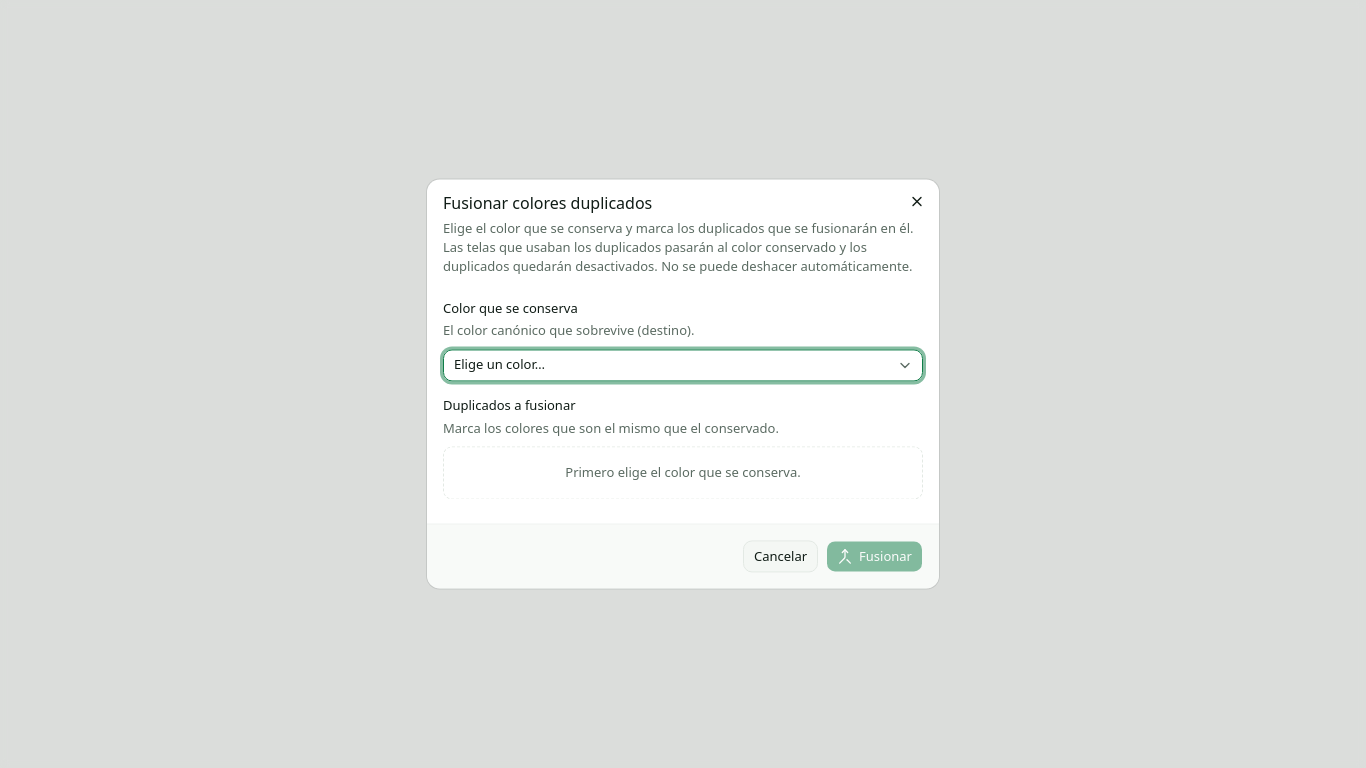
Test: <DialogoFusionColores> › al cambiar el destino lo quita de los duplicados marcados
Select "Negro" in the dropdown with test id "fusion-destino" at [683, 365], box 443,349 -> 923,381
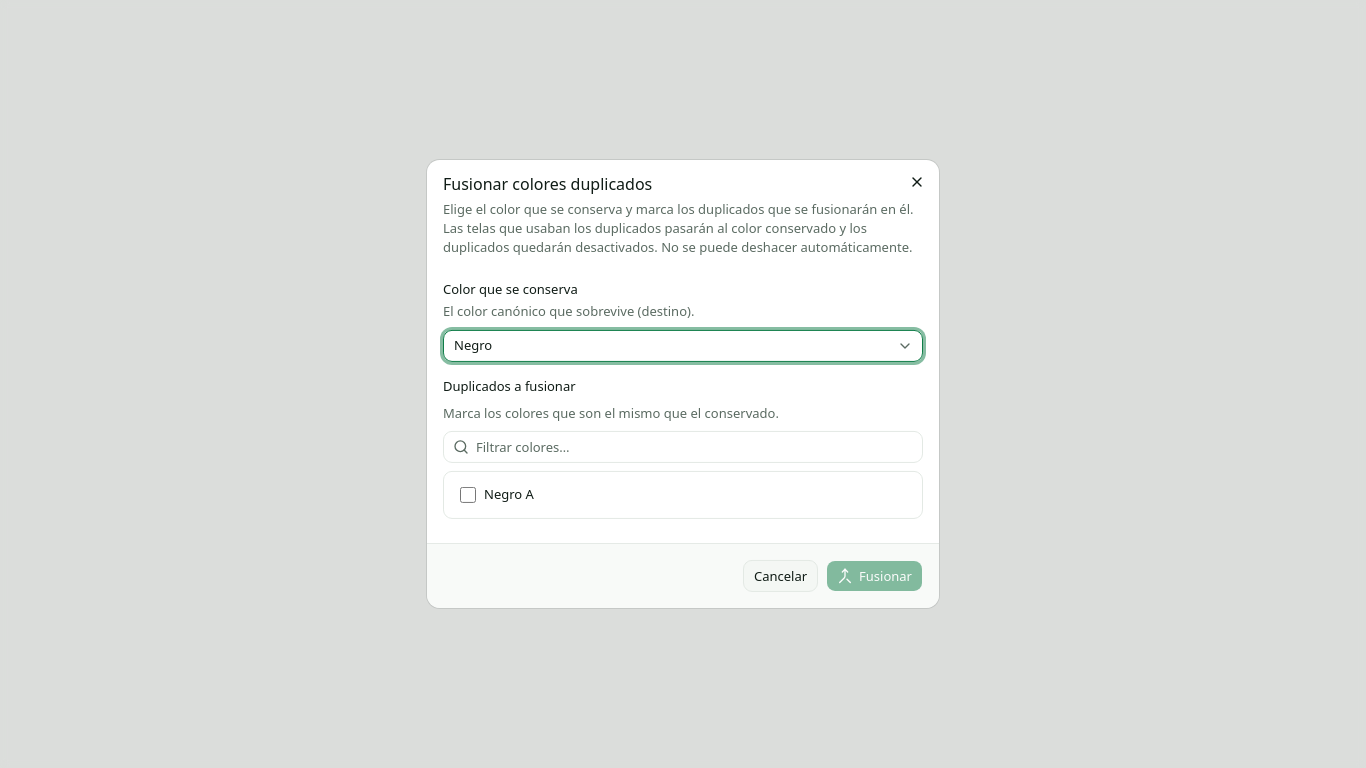
Click the checkbox with test id "fusion-origen-opcion-2" at [468, 495], box 460,487 -> 476,503
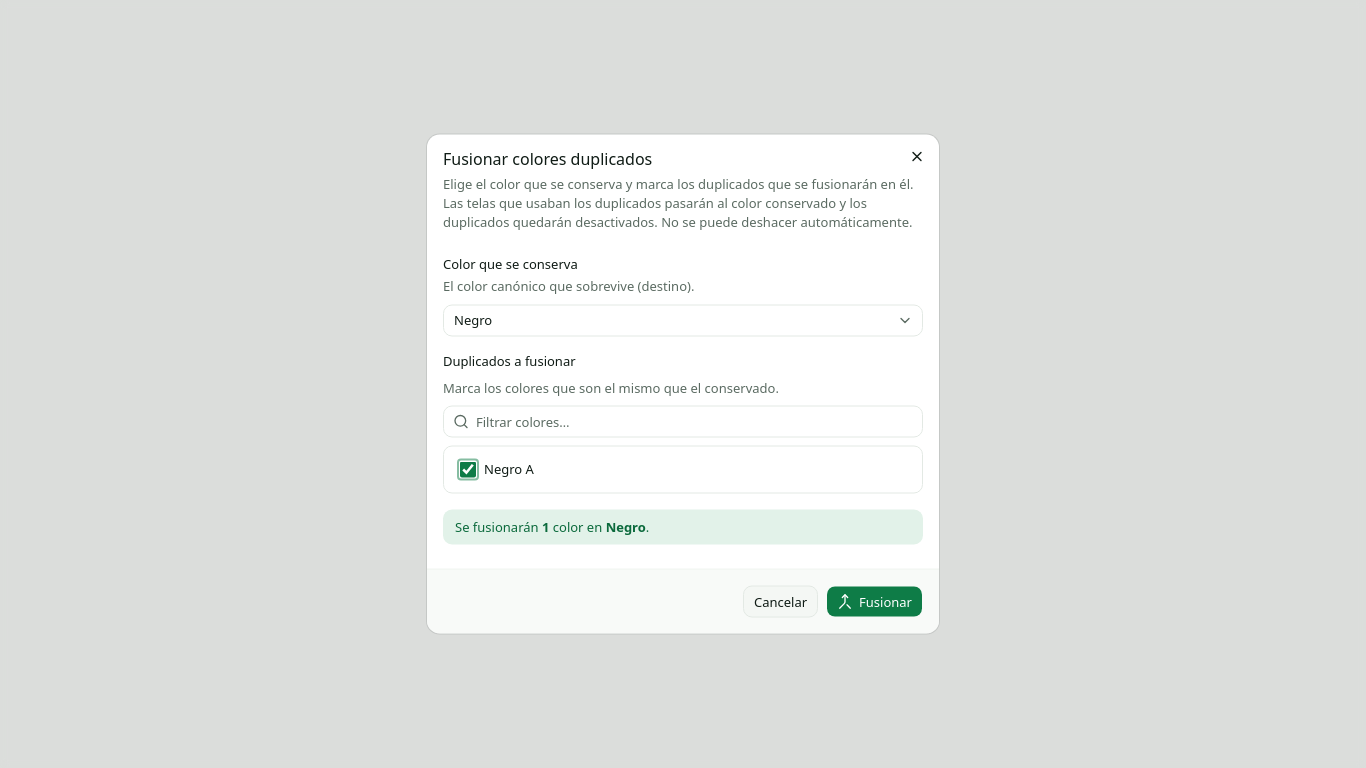
Expected: the button with test id "confirmar-fusion" is enabled, 826,586 -> 923,618
Select "Negro A" in the dropdown with test id "fusion-destino" at [683, 320], box 443,304 -> 923,336
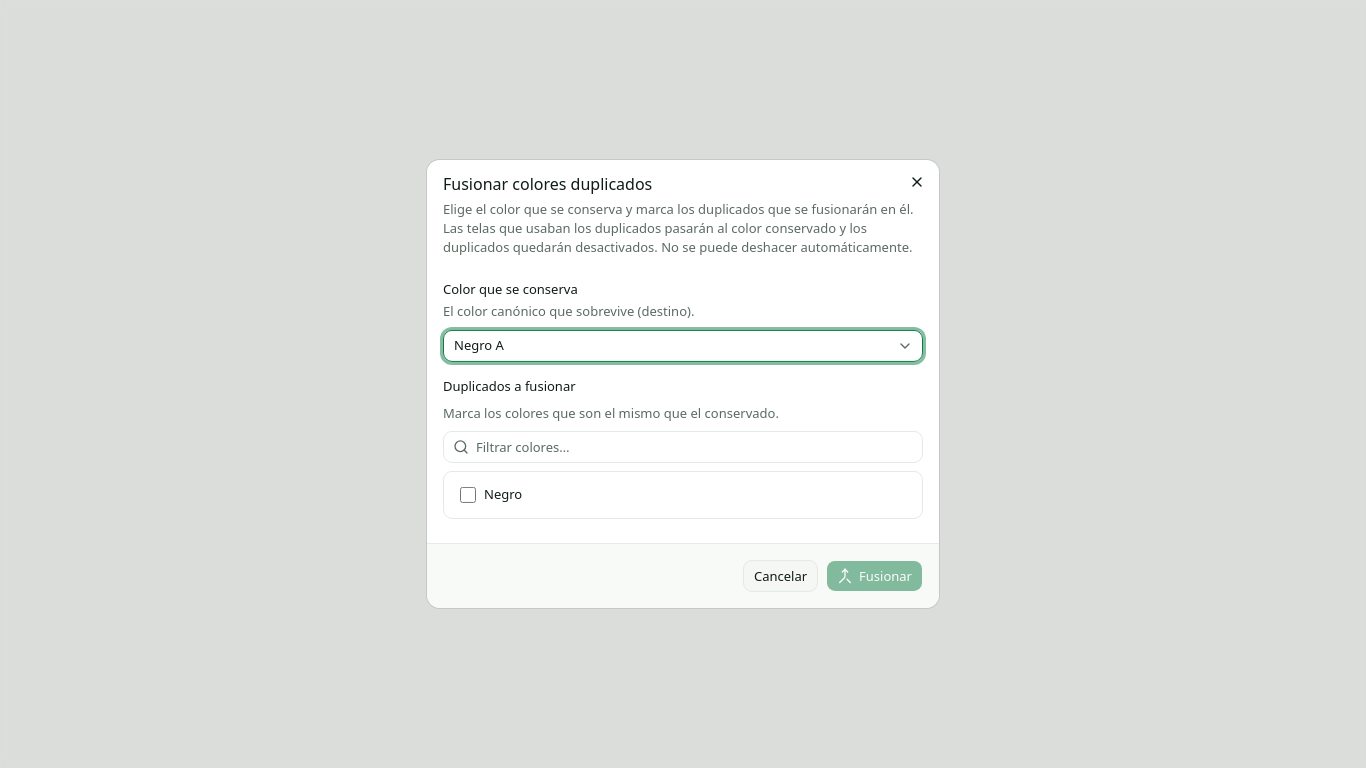
Expected: the checkbox with test id "fusion-origen-opcion-2" is gone
Expected: the checkbox with test id "fusion-origen-opcion-1" is not checked, 460,487 -> 476,503
Expected: the button with test id "confirmar-fusion" is disabled, 826,560 -> 923,592
